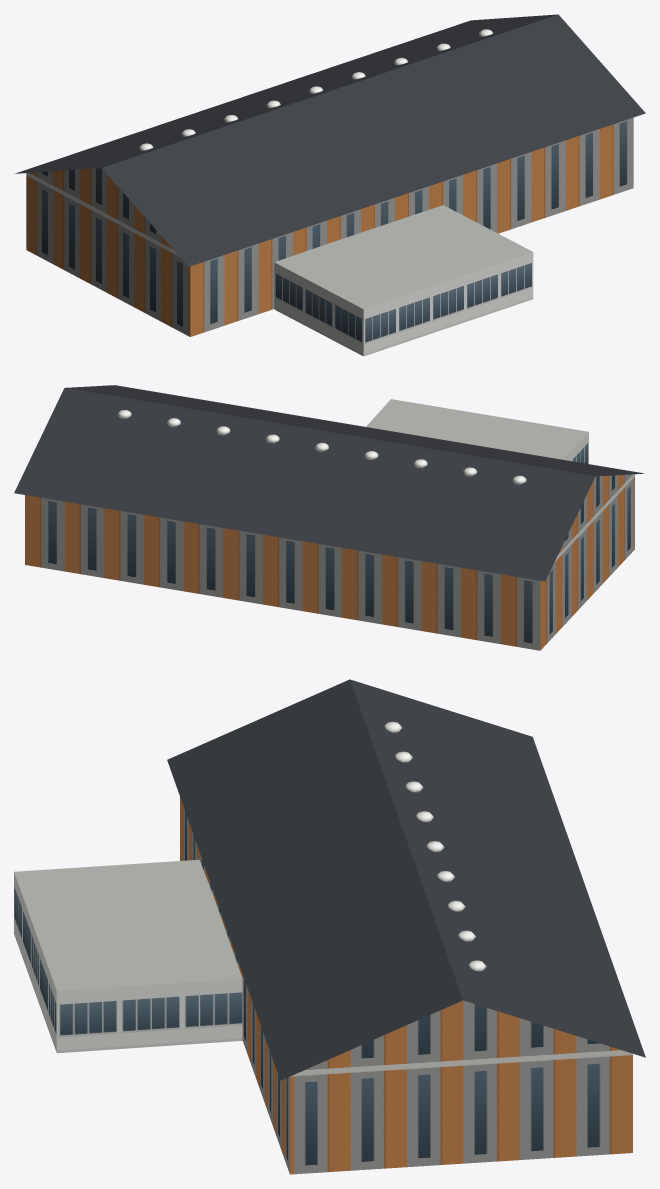
The model's file is jiaogong_huodong.glb.
3 views of the same model, one above another, from view 1: azimuth 30°, elevation 25°; view 2: azimuth 150°, elevation 25°; view 3: azimuth 270°, elevation 25° (orthographic). The views are drawn at different scales.
Visible parts, largest first — view 1: 教工活动中心; view 2: 教工活动中心; view 3: 教工活动中心.
Boxes of the visible parts, x1=… form: 教工活动中心: x1=14, y1=14, x2=645, y2=356; 教工活动中心: x1=14, y1=385, x2=644, y2=650; 教工活动中心: x1=14, y1=679, x2=645, y2=1174.
Size of the model in its own units: 57.03 by 13 by 44.28.
5 materials, 2 textured.
